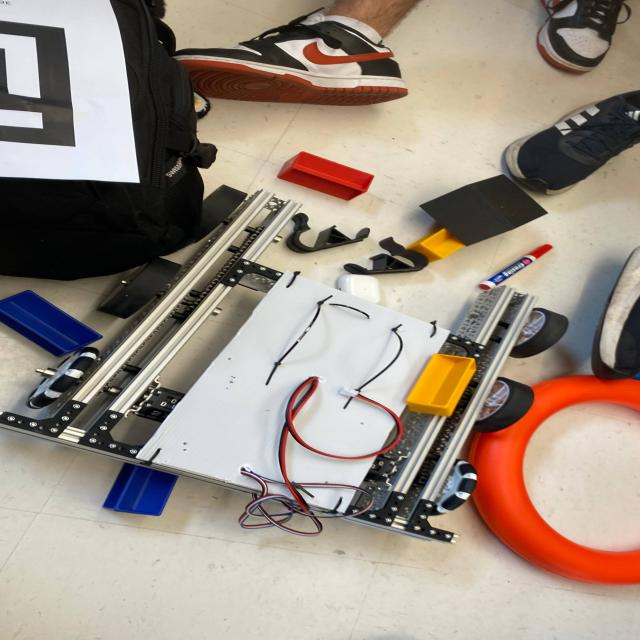blue-specimen: (0, 291, 102, 356), (104, 463, 177, 516)
red-specimen: (277, 152, 374, 200)
yellow-specimen: (406, 353, 476, 417), (406, 228, 464, 263)
